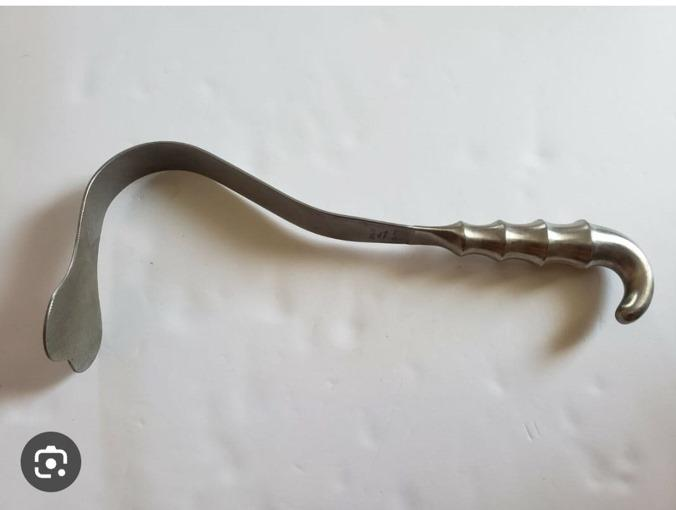Harrington Retractor: (32, 122, 664, 390)
